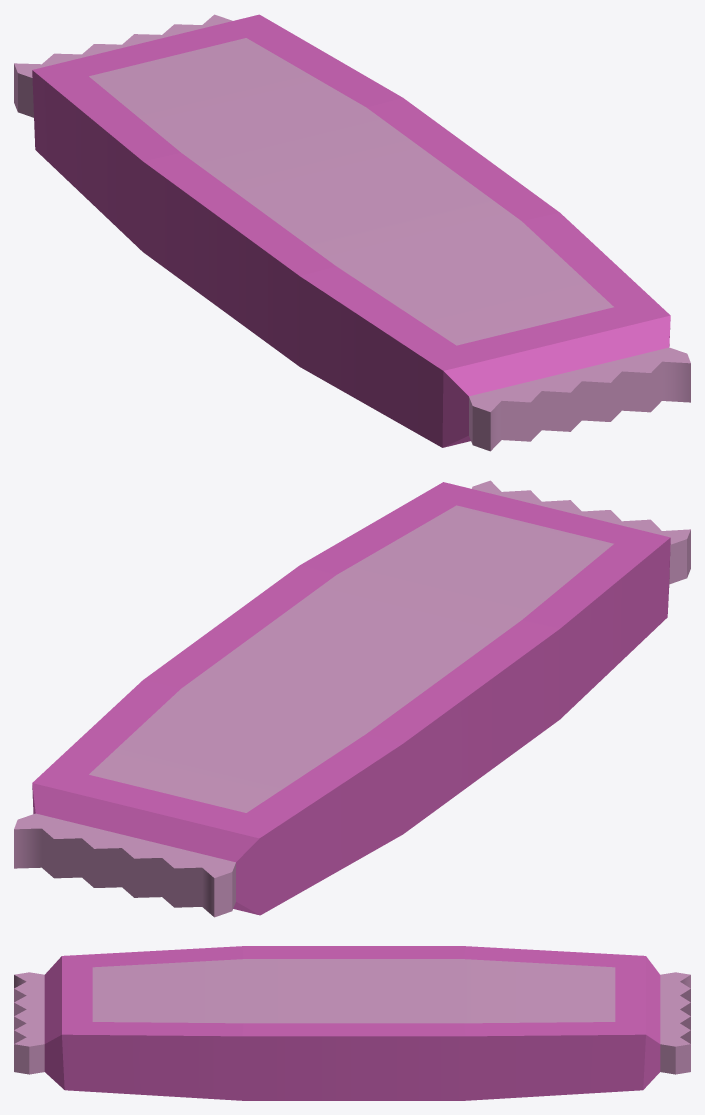
The model's file is Snack.fbx.
The picture shows the model from 3 angles, top to bottom: view 1: azimuth 30°, elevation 25°; view 2: azimuth 150°, elevation 25°; view 3: azimuth 270°, elevation 25°; orthographic projection. The views are drawn at different scales.
Parts seen in each view (by area): view 1: Box001; view 2: Box001; view 3: Box001.
Part boxes in pixels (box(x1,y1,x2,y2)): Box001: box(14, 14, 690, 451); Box001: box(14, 480, 690, 917); Box001: box(14, 946, 690, 1100).
Size of the model in its own units: 0.0694 by 0.0231 by 0.22.
